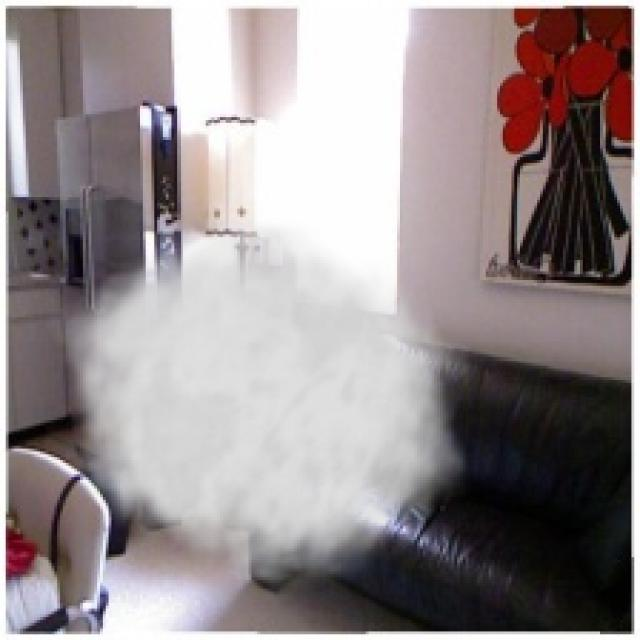smoke: (46, 208, 471, 603)
